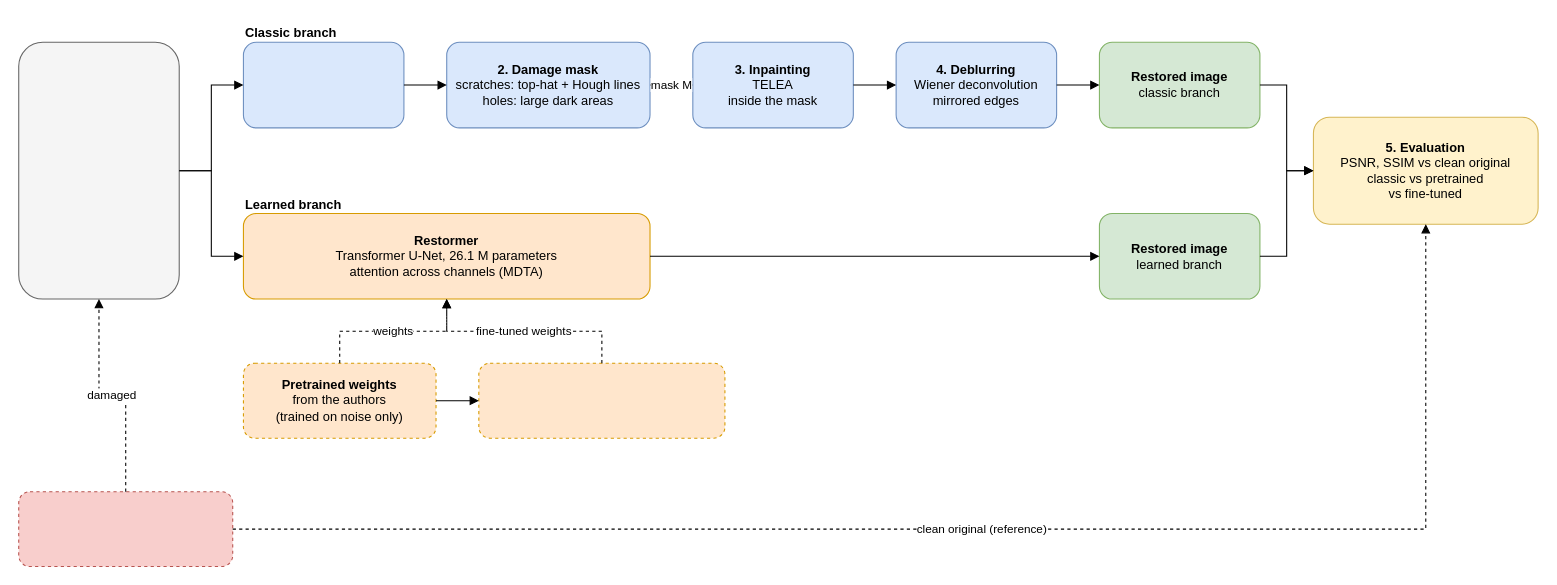
This 1557x585 diagram has some shape labels left out. Each missing label, with the centre of its shape:
1. Denoising median (salt & pepper) NL-means, auto strength: the point at 323,84
Damaged image real photo or synthetic damage: the point at 98,170
Fine-tuning (GPU, Colab) DIV2K (900) + 30 film scans random damage, L1 loss: the point at 601,400
Synthetic damage generator clean image + noise, blur, scratches, holes (seed 0): the point at 125,529
